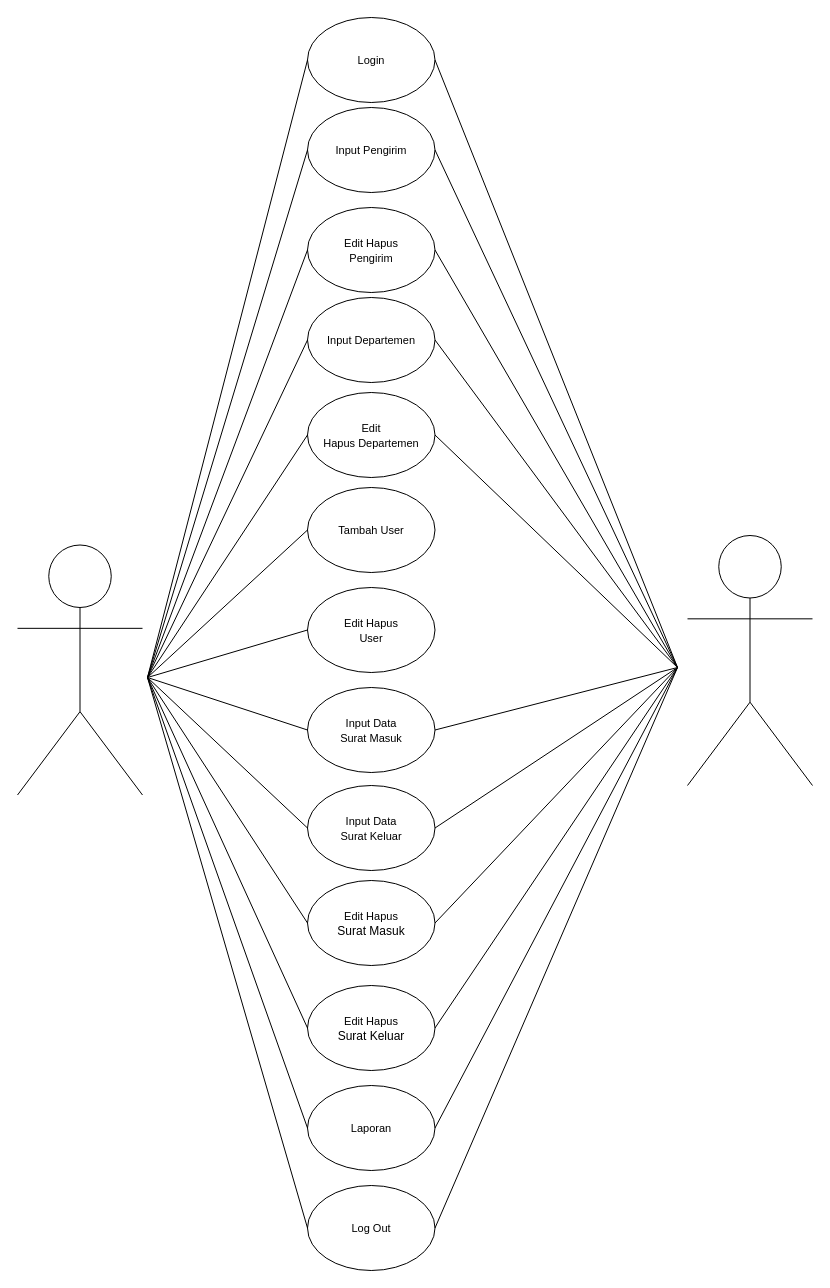
Some shapes in this 830 by 1288 pixel diagram are drawn without their labels. Each missing label, with the box of its shape:
Admin: (16, 544, 142, 795)
End User: (686, 534, 812, 786)
